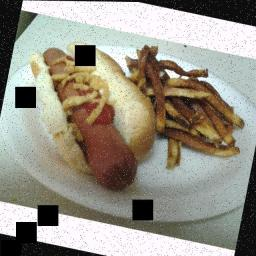hotdog: (9, 30, 170, 196)
